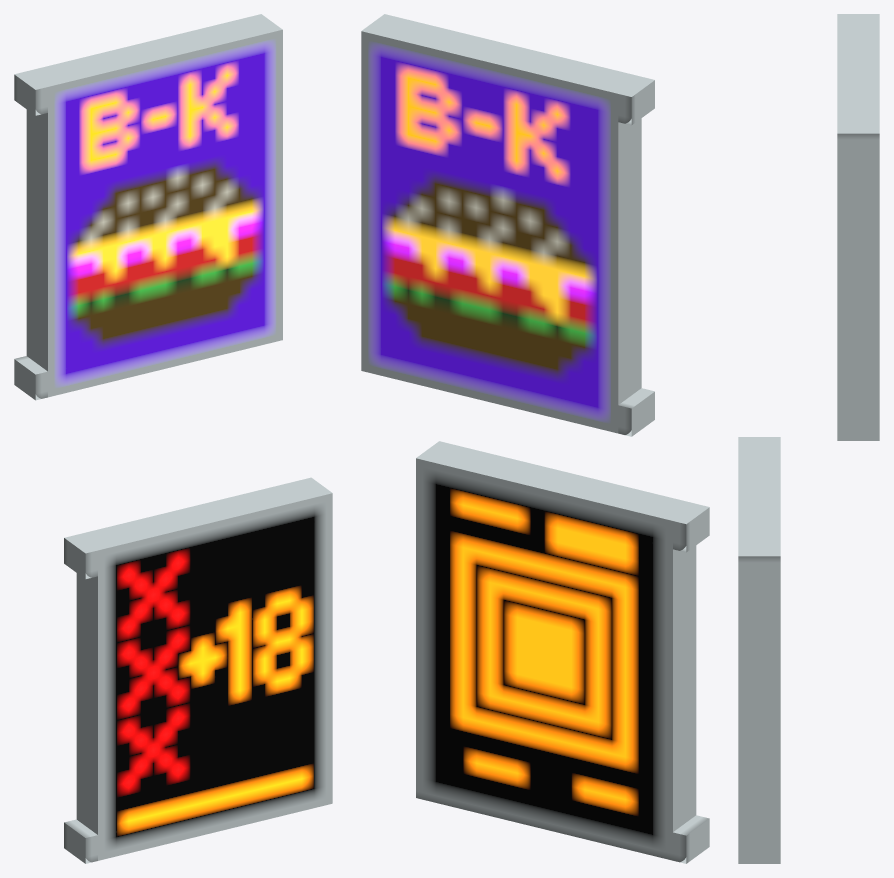
The model's file is neon_zestaw_dwiestrony.dae.
The picture shows the model from 3 angles, left to right: view 1: azimuth 30°, elevation 25°; view 2: azimuth 150°, elevation 25°; view 3: azimuth 270°, elevation 25°; orthographic projection. The views are drawn at different scales.
Parts seen in each view (by area): view 1: Content; view 2: Content; view 3: Content.
Boxes of the visible parts, x1,y1,x2,y2 form: Content: (14, 14, 332, 863); Content: (361, 14, 709, 863); Content: (738, 14, 879, 863).
Size of the model in its own units: 20 by 57 by 10.
Materials: 1 (1 with a texture image).
